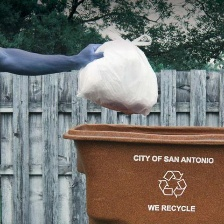plastic_bag: (72, 24, 160, 120)
